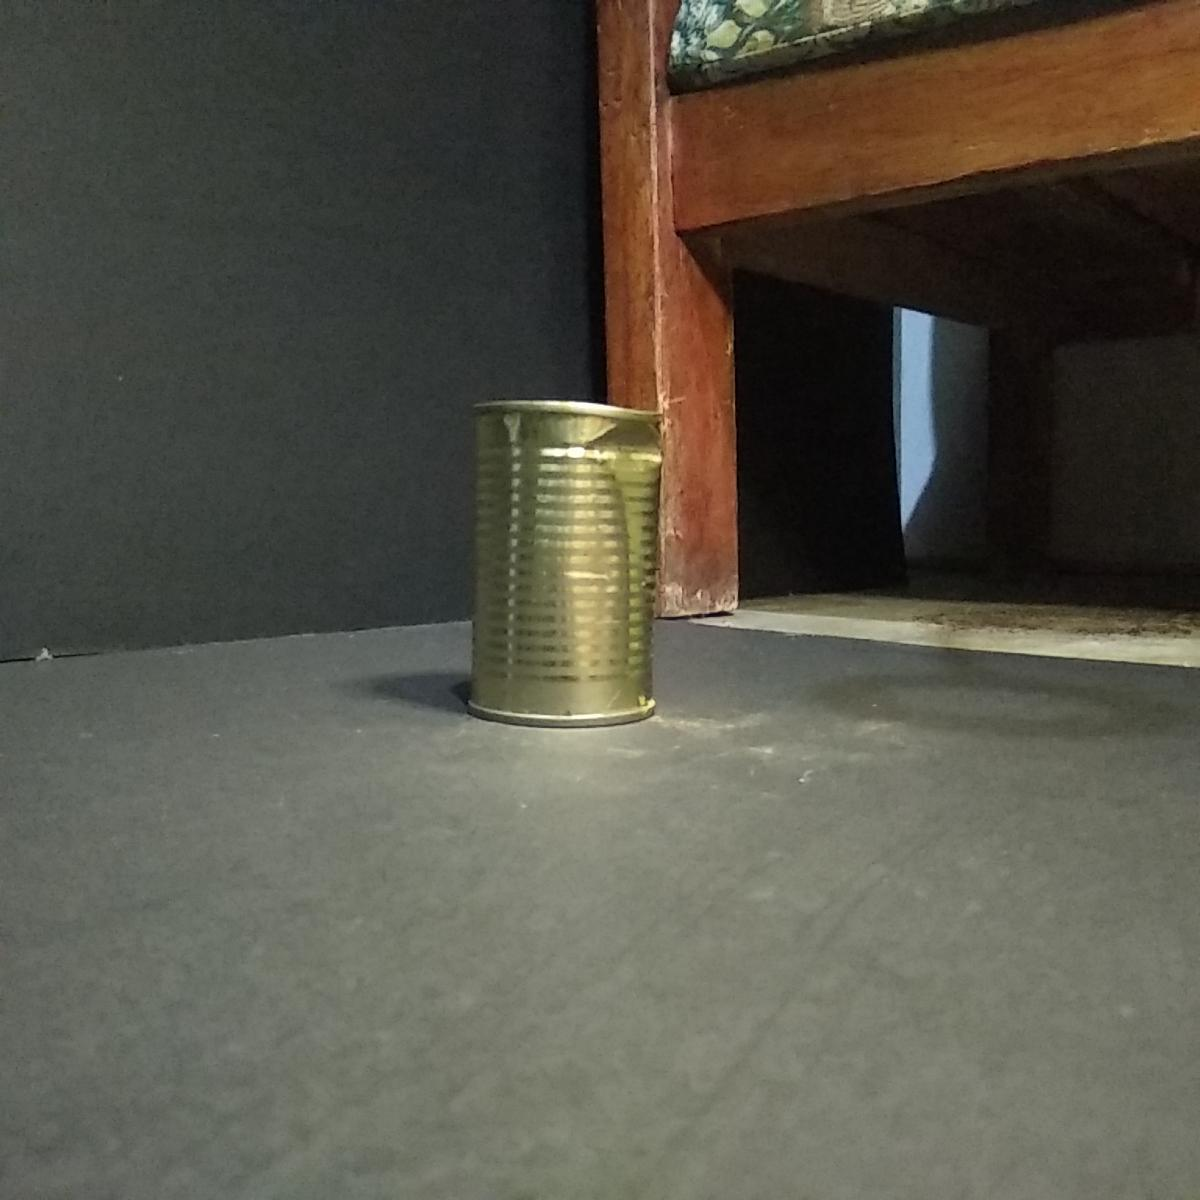Dented: (456, 380, 678, 748)
